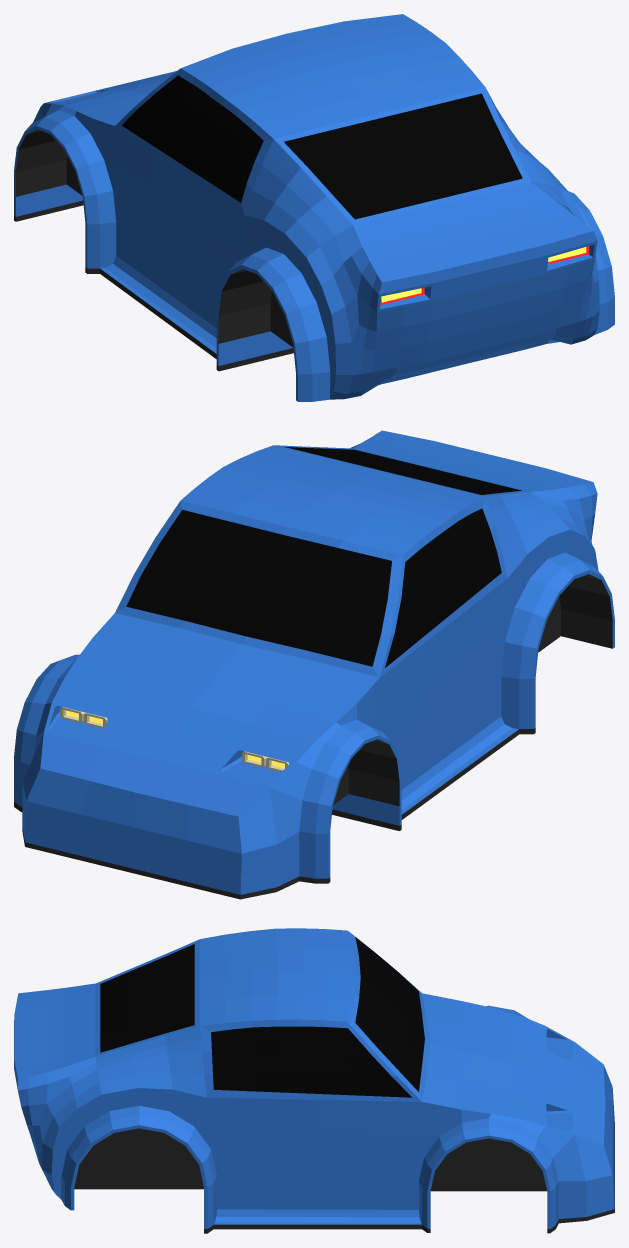
Rendered from car_var2_body.fbx.
The picture shows the model from 3 angles, top to bottom: view 1: azimuth 30°, elevation 25°; view 2: azimuth 150°, elevation 25°; view 3: azimuth 270°, elevation 25°; orthographic projection. The views are drawn at different scales.
Visible parts, largest first — view 1: Circle.006, GlassBack, GlassMid, BackLight; view 2: Circle.006, GlassFront, GlassMid, GlassBack, FrontLight; view 3: Circle.006, GlassMid, GlassBack, GlassFront.
Boxes of the visible parts, <box> form: Circle.006: <box>14,14,614,401</box>; GlassBack: <box>284,93,522,219</box>; GlassMid: <box>122,75,263,202</box>; BackLight: <box>380,246,589,304</box>; Circle.006: <box>14,430,614,899</box>; GlassFront: <box>126,510,391,666</box>; GlassMid: <box>385,508,501,667</box>; GlassBack: <box>285,447,521,494</box>; FrontLight: <box>60,707,289,771</box>; Circle.006: <box>14,928,614,1233</box>; GlassMid: <box>211,1026,411,1097</box>; GlassBack: <box>100,944,194,1052</box>; GlassFront: <box>355,937,424,1091</box>.
Size of the model in its own units: 598 by 426 by 1169.
